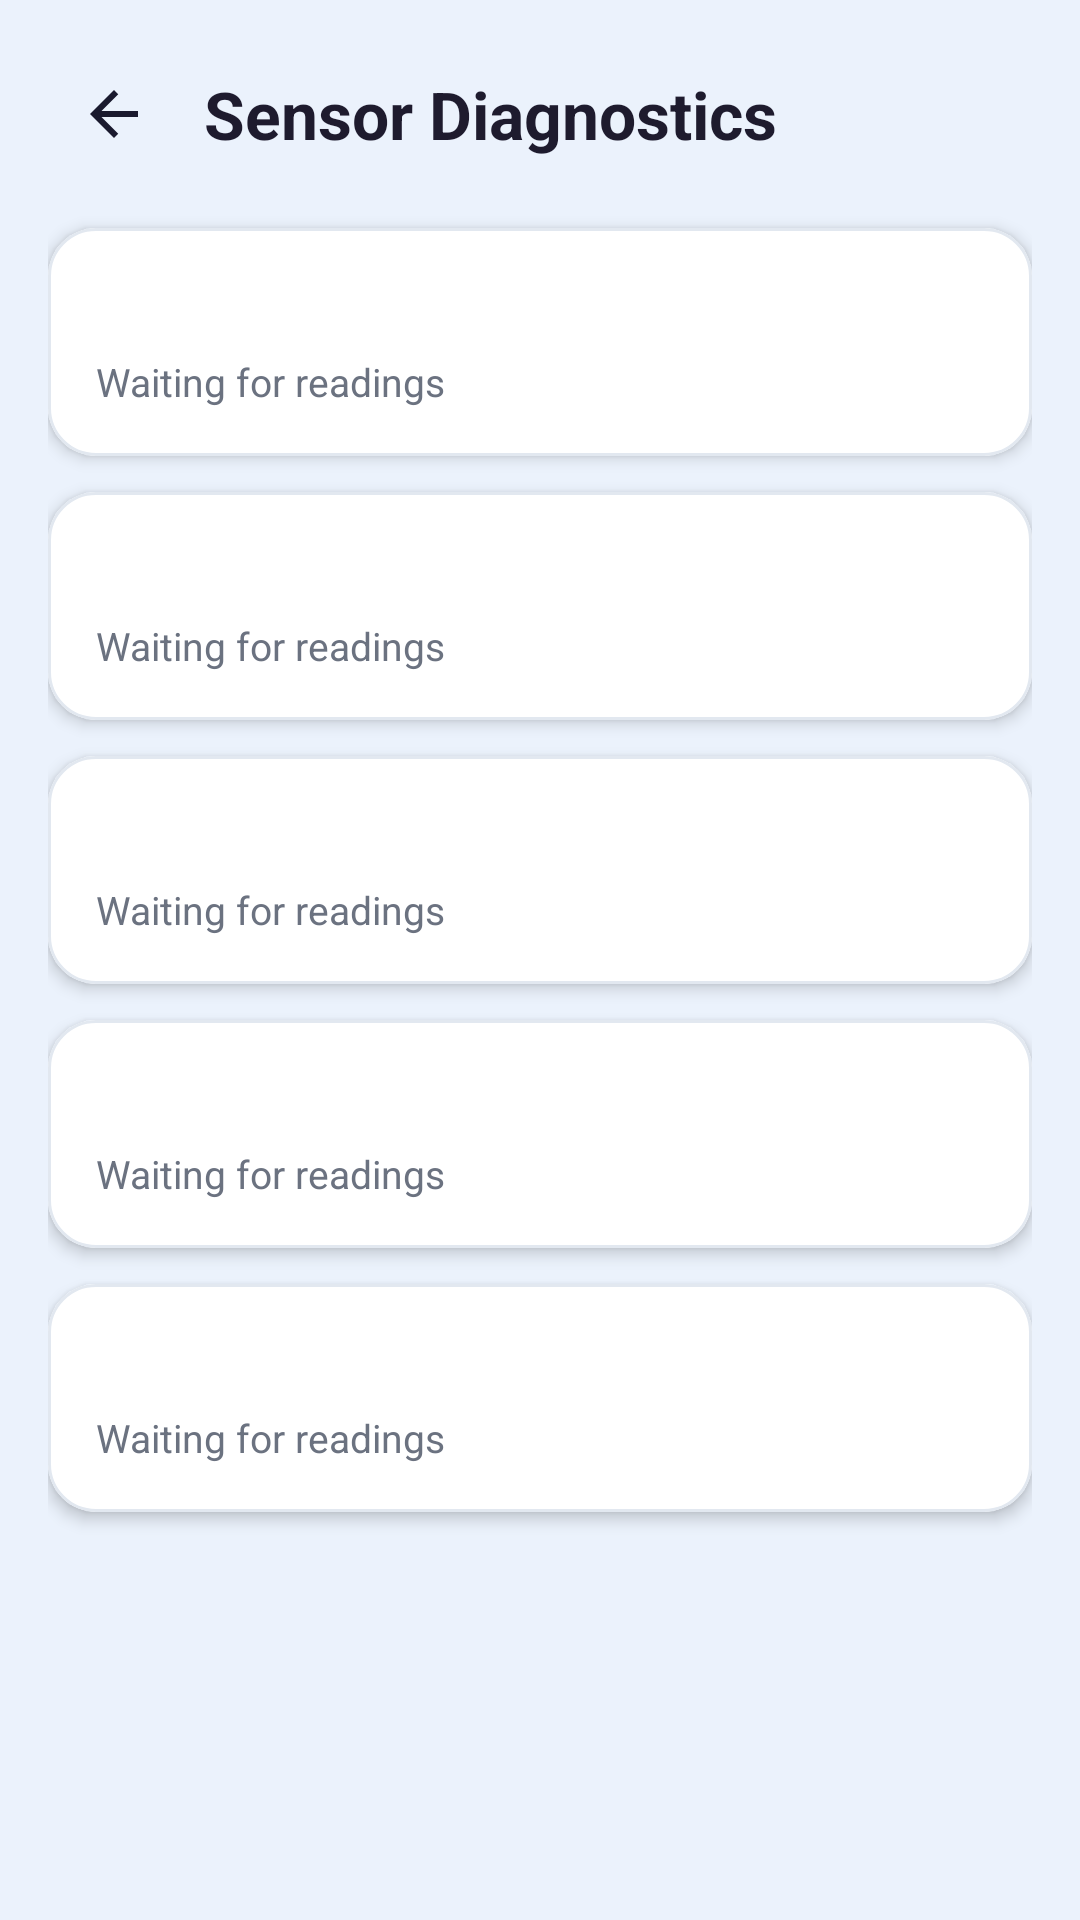

Icon click points for this 1080w x 1920h phone screenshot, format [x,y]:
Back: [114,114]
